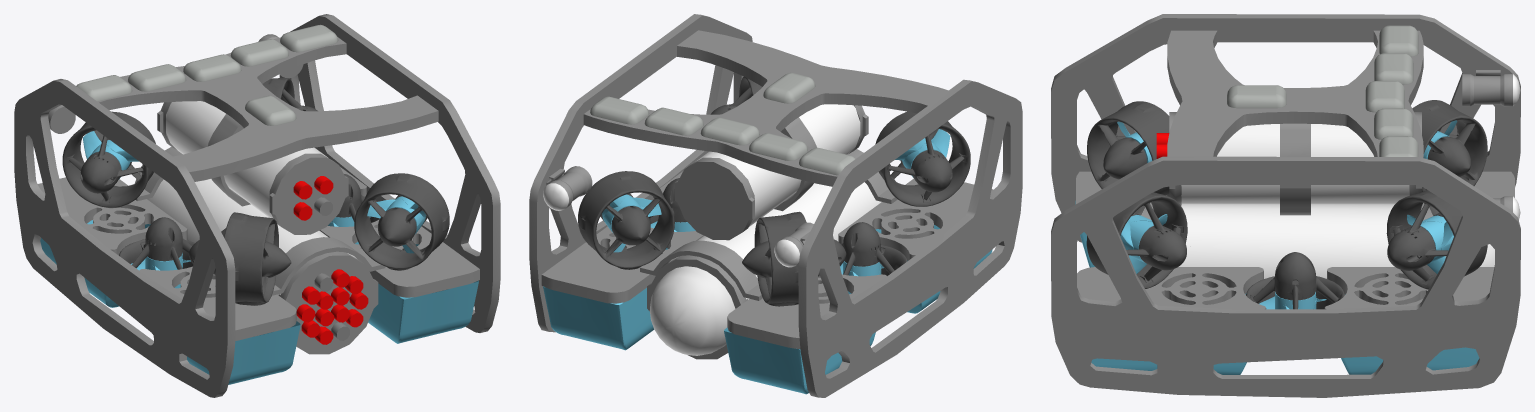
Rendered from BlueRov2.fbx.
The picture shows the model from 3 angles, left to right: view 1: azimuth 30°, elevation 25°; view 2: azimuth 150°, elevation 25°; view 3: azimuth 270°, elevation 25°; orthographic projection. The views are drawn at different scales.
Visible parts, largest first — view 1: BlueRov2; view 2: BlueRov2; view 3: BlueRov2.
Part boxes in pixels (bbox=[...]): BlueRov2: bbox=[14, 14, 500, 397]; BlueRov2: bbox=[529, 14, 1022, 397]; BlueRov2: bbox=[1051, 14, 1520, 397].
Bounding box in the file's own units: 33.81 × 25.5 × 45.76.
